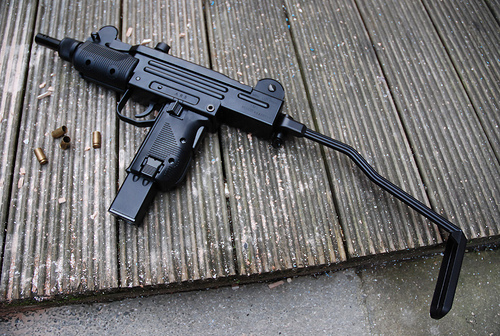rifle: (40, 33, 470, 318)
